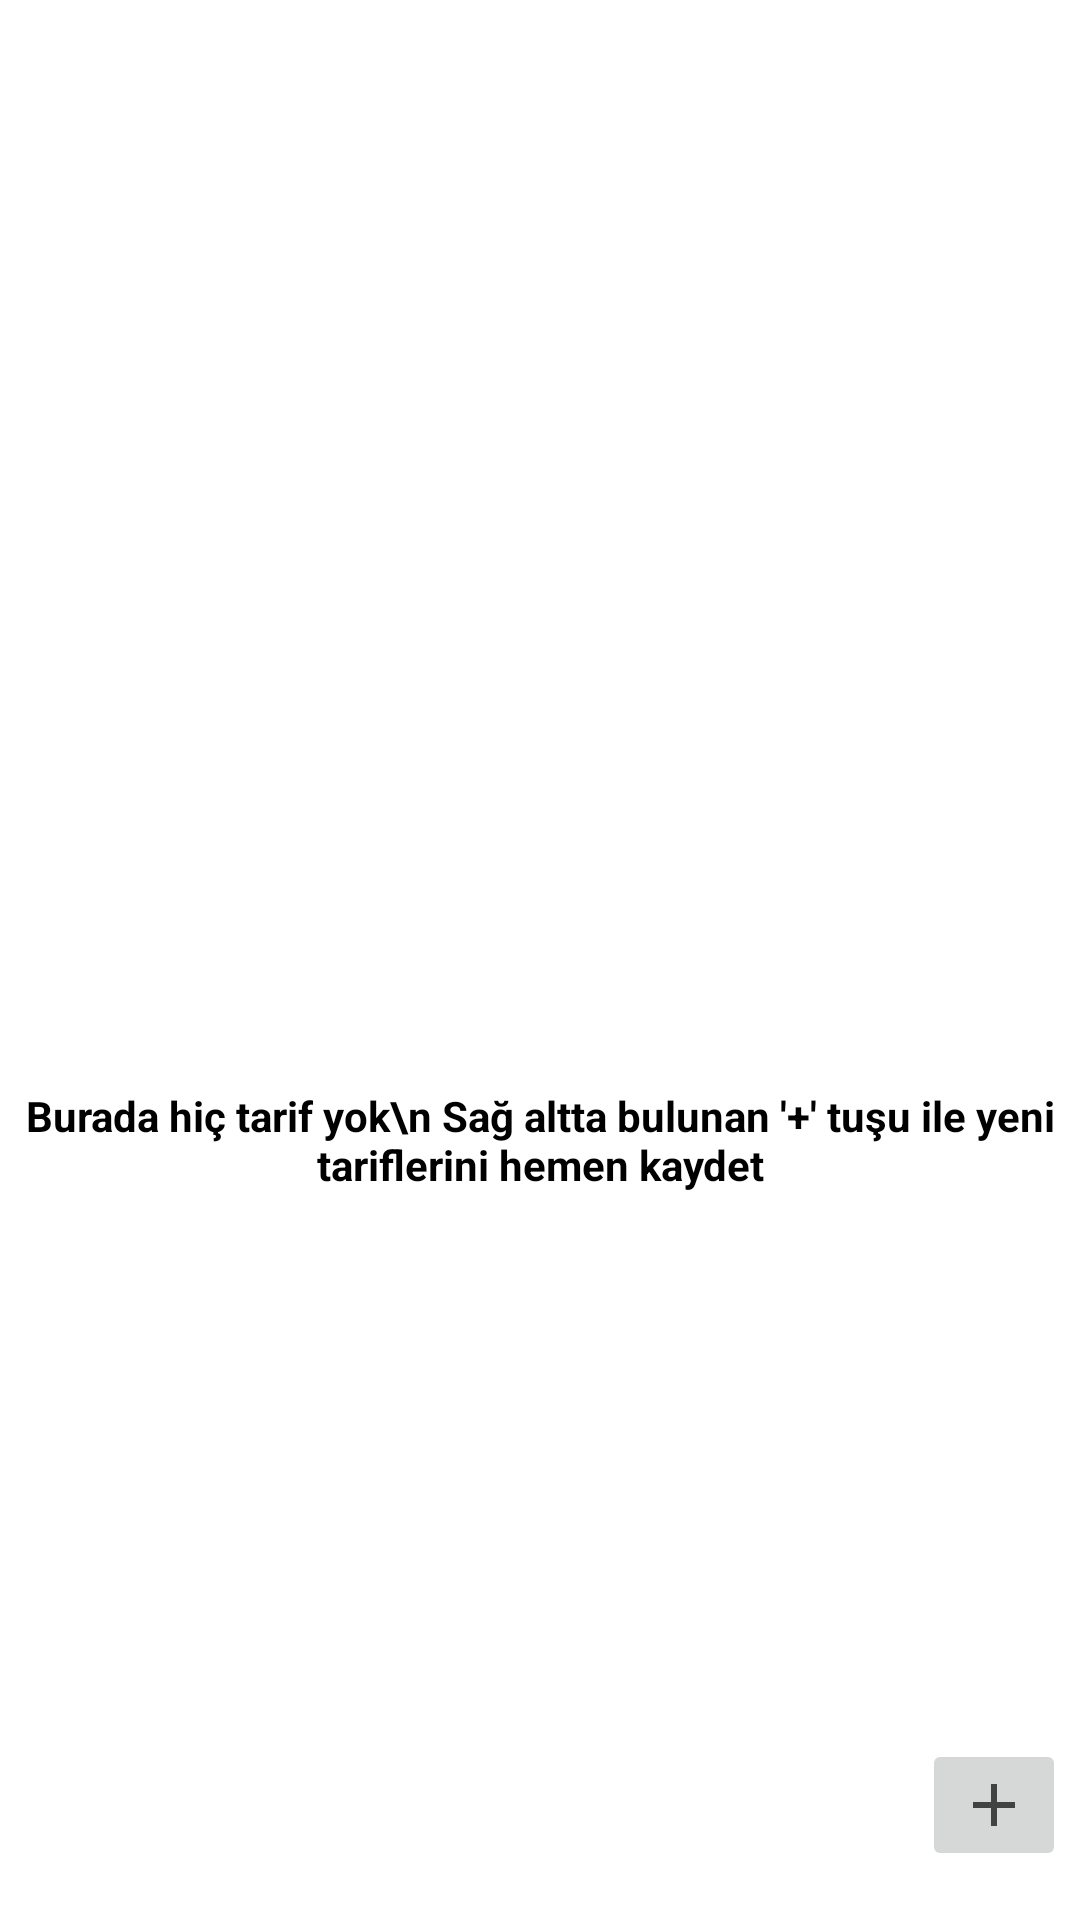

Named icons in this screenshot (1080 x 1920) and their centers, point (x, y):
add: point (994, 1805)
